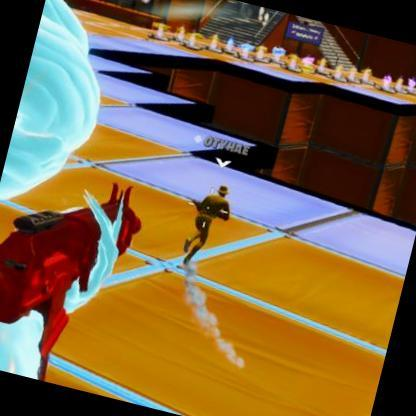person: (181, 182, 236, 270)
